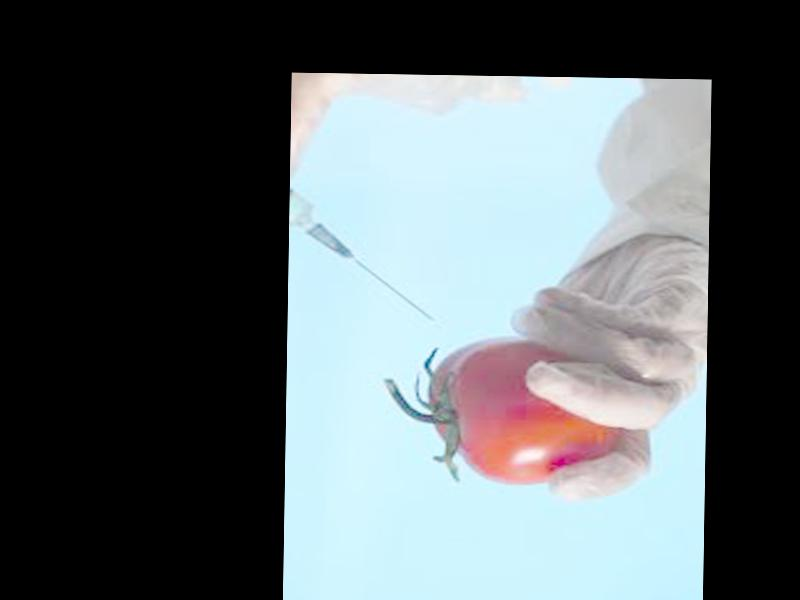Tomato: (427, 338, 622, 487)
